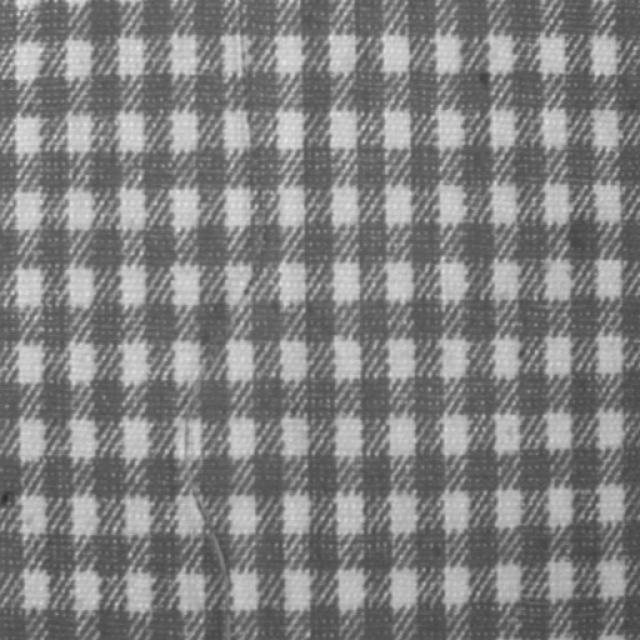Foreign-Body-Defect: (174, 421, 241, 639)
